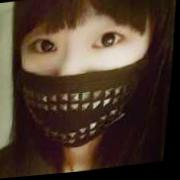WRONG: (8, 1, 166, 158)
